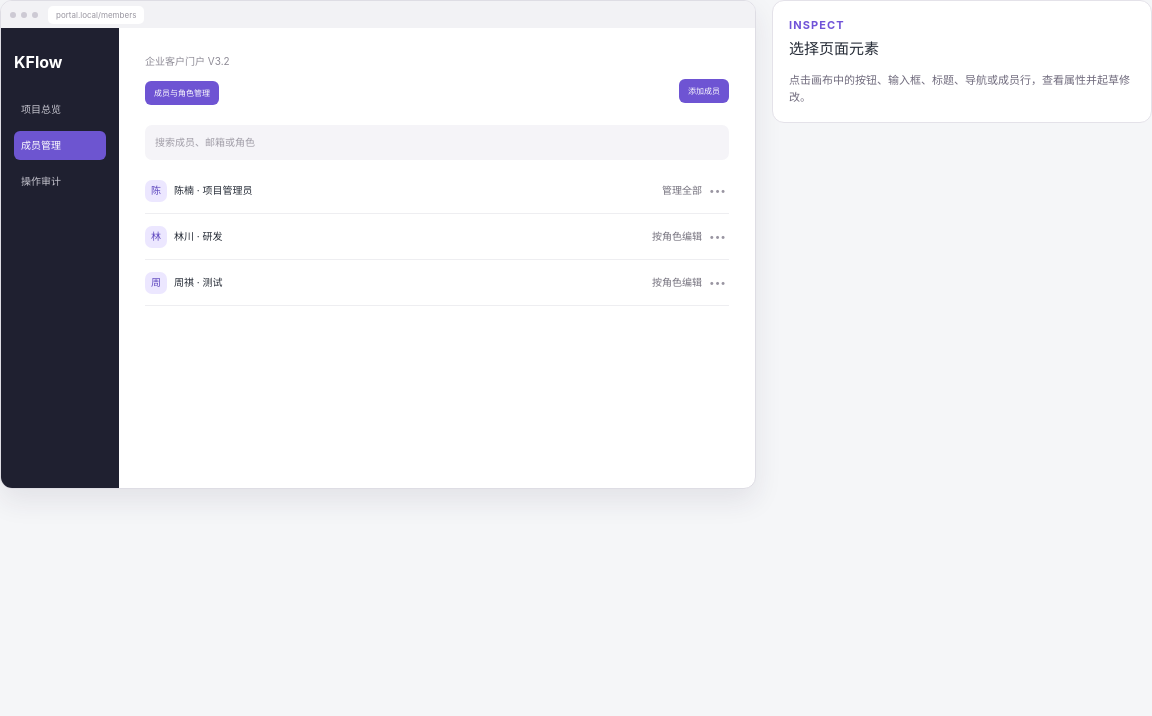
Test: clears the selected element from the canvas or Escape
The width and height of the screenshot is (1152, 716).
Click the button with aria-label "选择添加成员按钮".
click(704, 90)  # box [679,78,729,102]
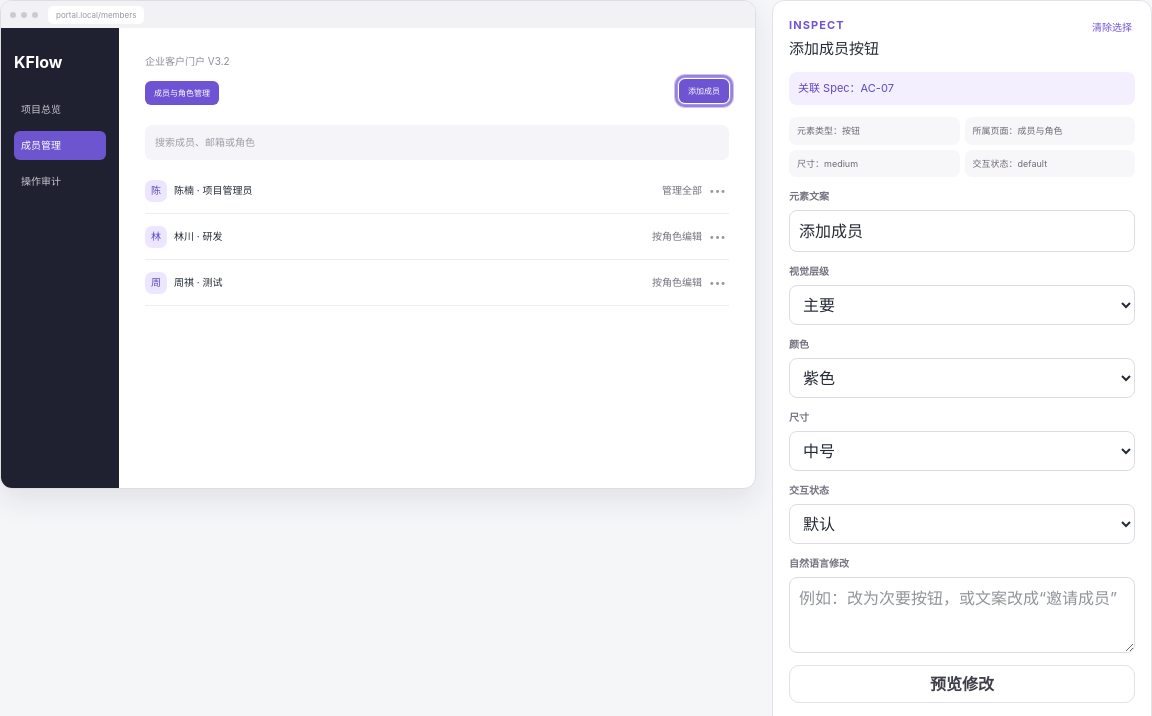
expect the field labelled "元素文案" is shown: met, box [789,210,1135,252]
Press Escape
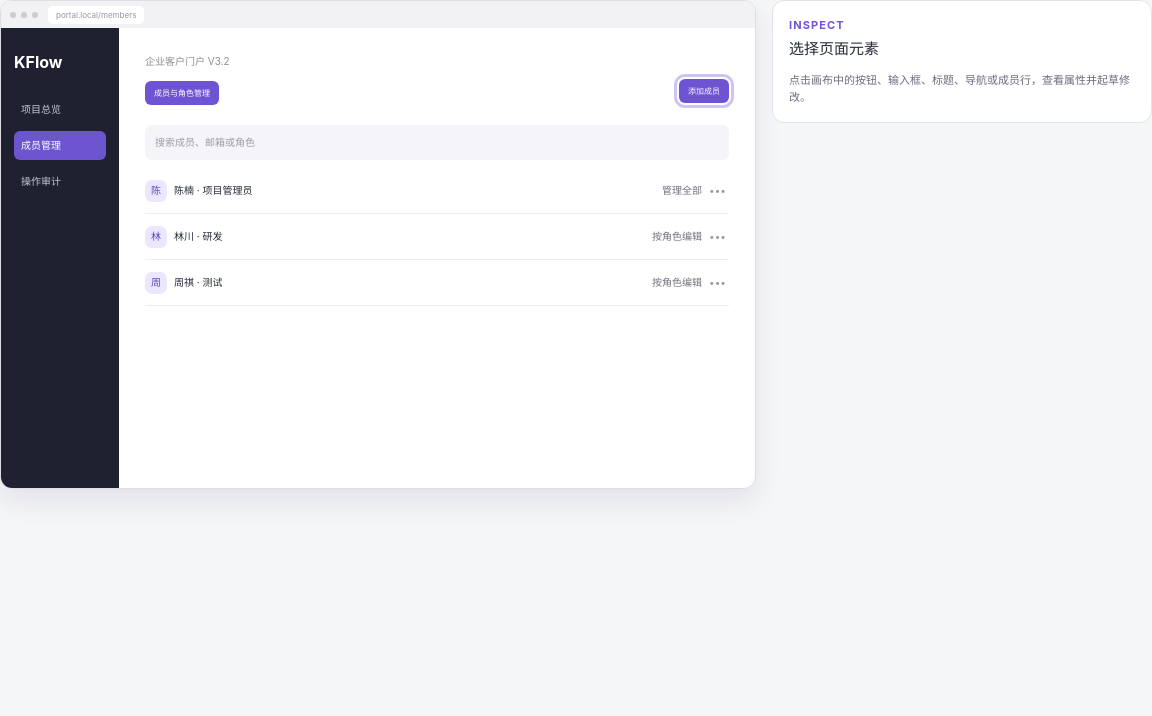
expect the text labelled "元素文案" is gone: met
Click the button with aria-label "选择添加成员按钮".
click(704, 90)  # box [679,78,729,102]
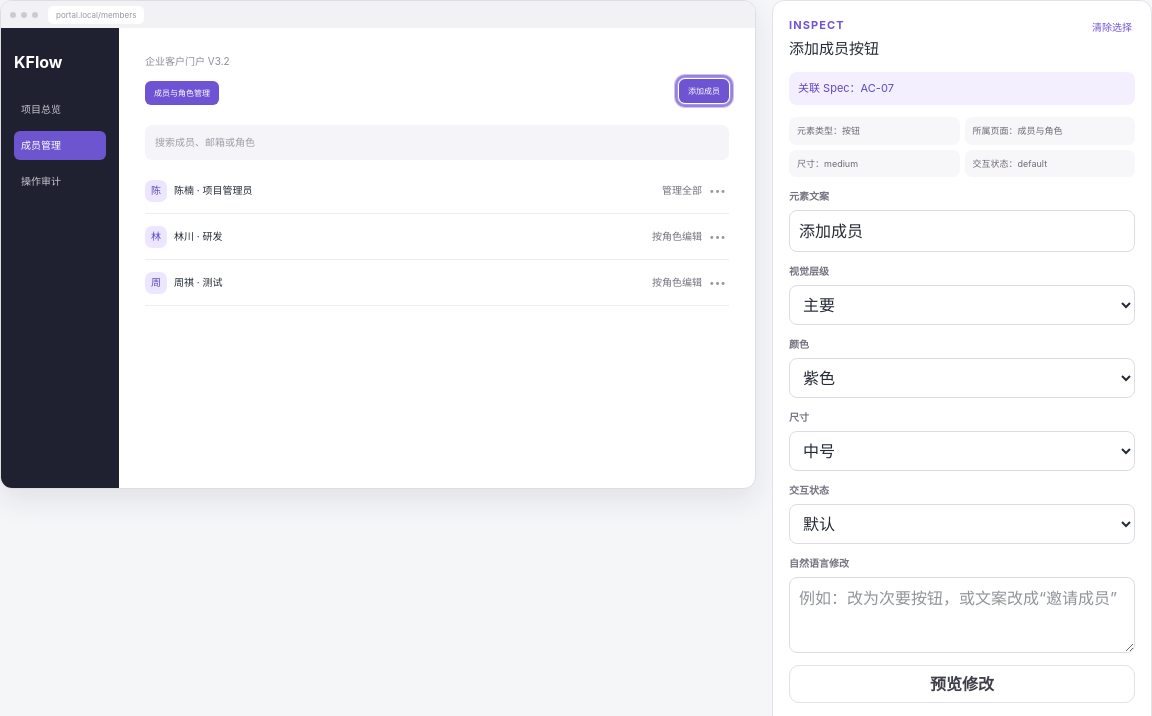
Click the element named "原型画布".
click(378, 244)  # box [0,0,756,489]
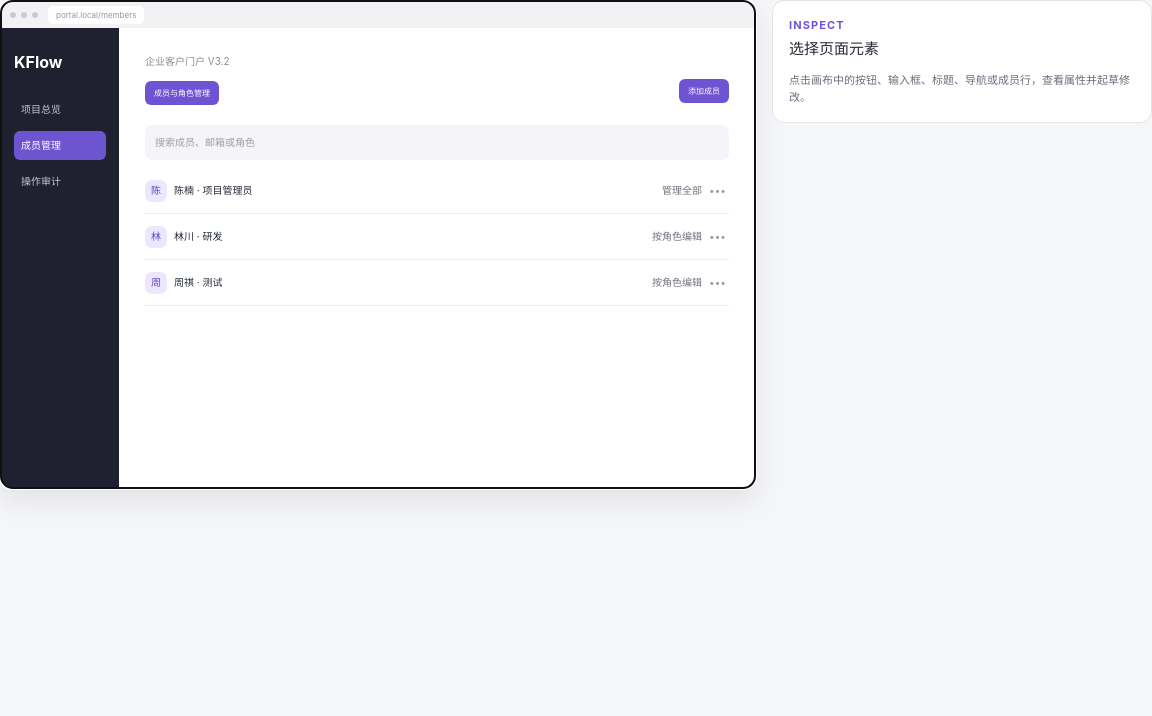
expect the text labelled "元素文案" is gone: met
